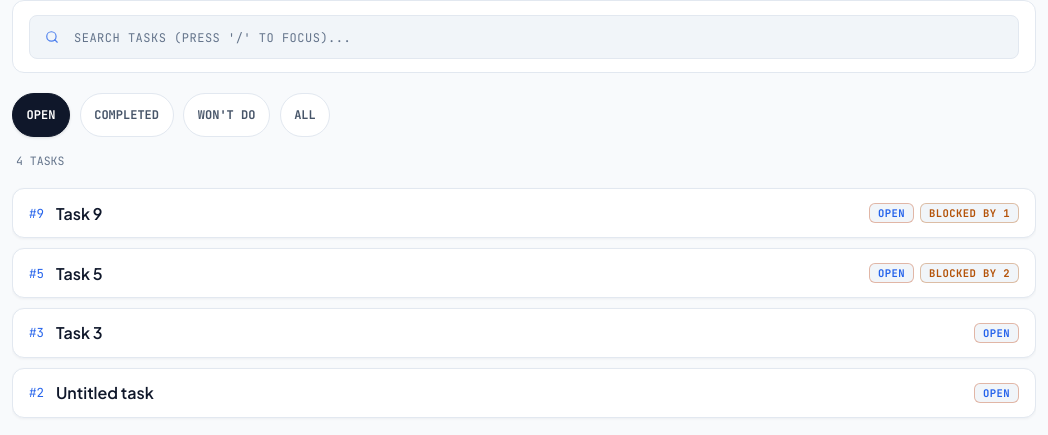
DocketView interactions › a pill fetches its status at once
Step 1. Click the button "COMPLETED" → (127, 115), box [80,93,174,137]
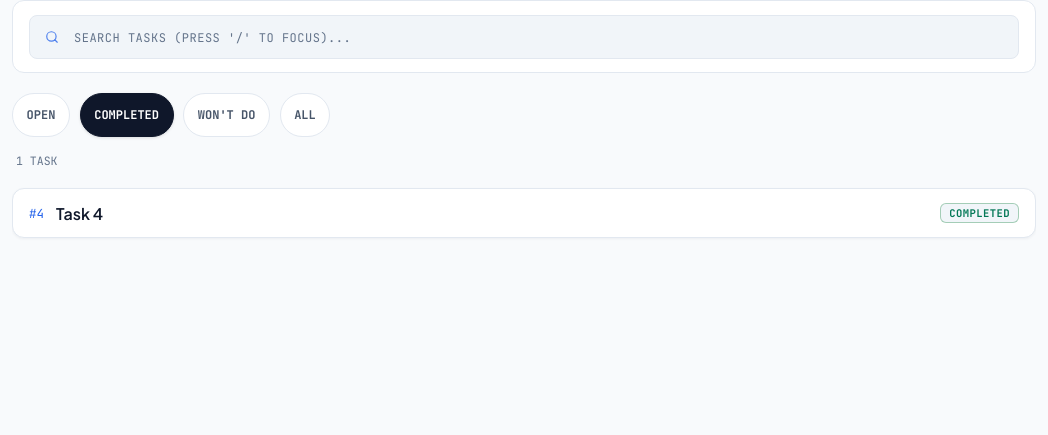
Expected: the text "1 TASK" is shown, [16,153,58,168]
